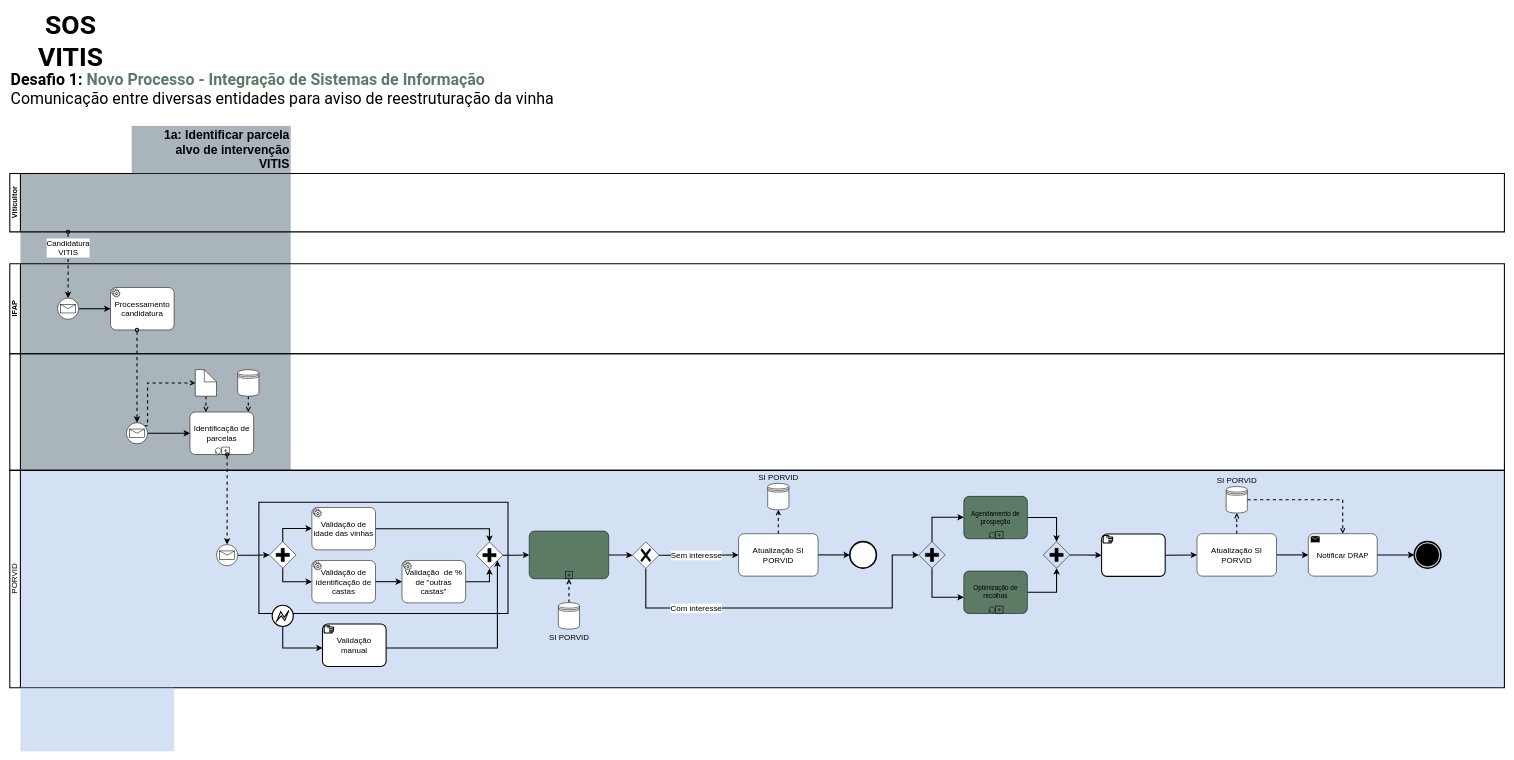
This 1514x760 diagram has some shape labels left out. The centre of each missing label's shape, as x and y in pixels:
"1b: Receber informação descritiva sobre a parcela alvo de intervenção VITIS" goes at [97,719].
"Candidatura" goes at [206,382].
"Candidatura VITIS recebida" goes at [68,308].
"Candidaturas VITIS" goes at [137,433].
"Decisão sobre parcelas a prospetar" goes at [569,555].
"Informação de parcelas Aprovadas" goes at [227,555].
"IVV" goes at [757,412].
"Recolha de amostras" goes at [1133,555].
"SIVV" goes at [248,382].
